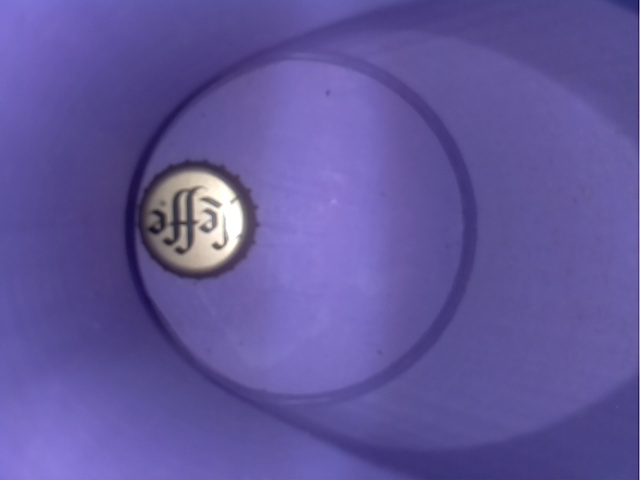capsule: (120, 151, 275, 292)
